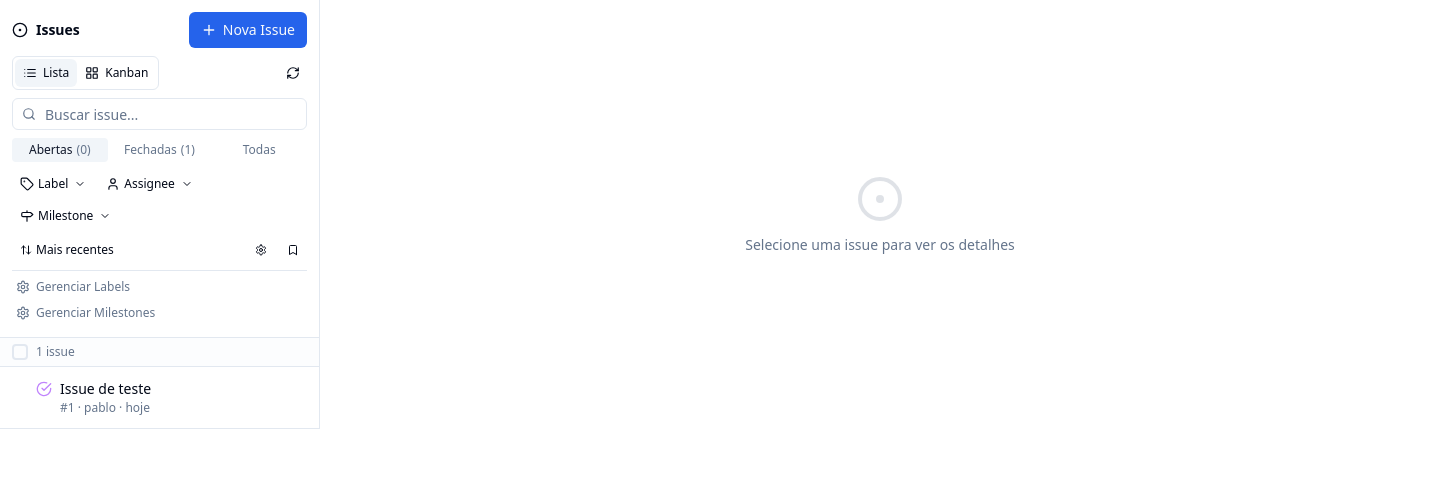
Test: IssuesManager › seleção de issue › botão "Reabrir" aparece para issue fechada
What coordinates should you click on to do the following:
click the text "Issue de teste"
I would click on:
 (106, 389)
Its box is left=60, top=379, right=151, bottom=398.
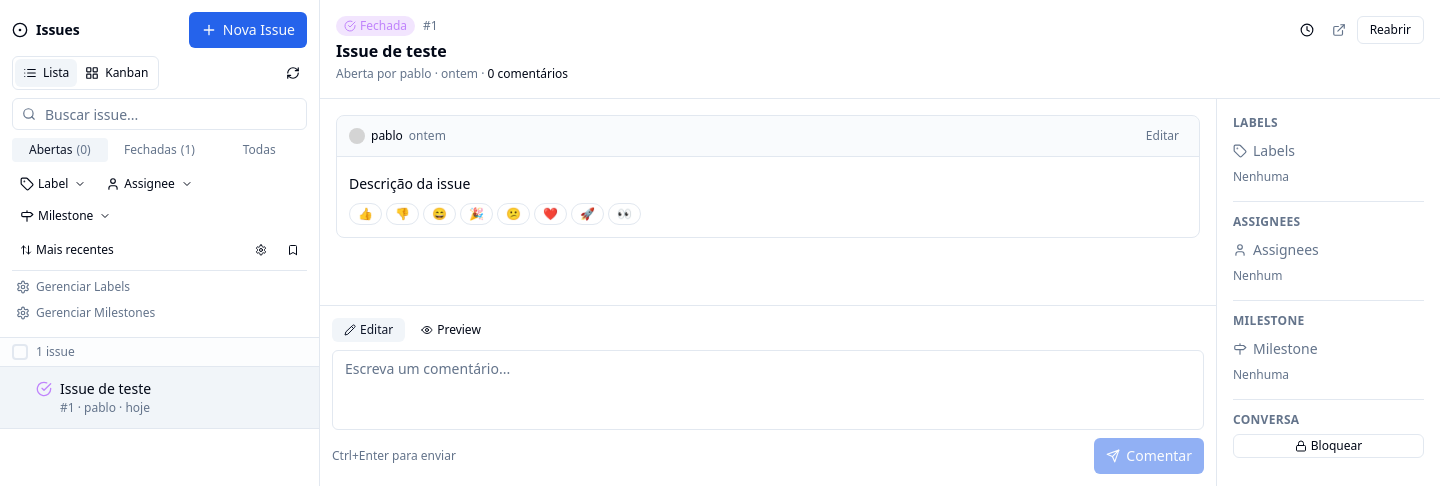
Result: the button "Reabrir" is shown at left=1357, top=16, right=1424, bottom=44
